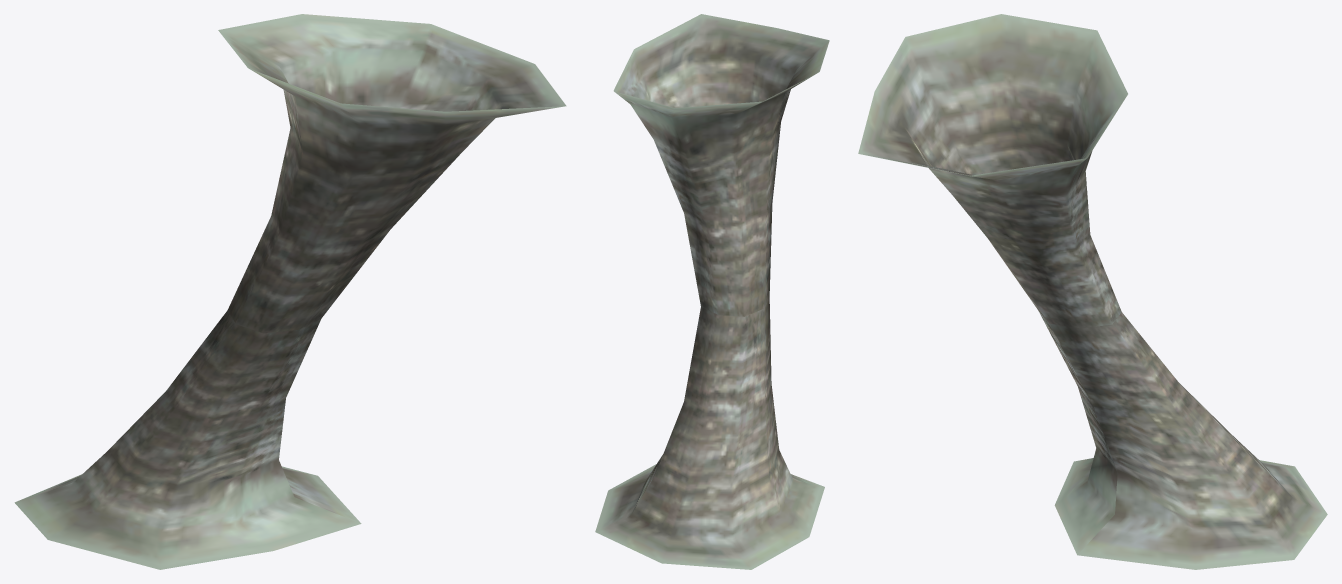
Rendered from TROLLHOLE02_PS-MAINSTALAG45.fbx.
The picture shows the model from 3 angles, left to right: view 1: azimuth 30°, elevation 25°; view 2: azimuth 150°, elevation 25°; view 3: azimuth 270°, elevation 25°; orthographic projection. The views are drawn at different scales.
Visible parts, largest first — view 1: TROLLHOLE02_PS-MAINSTALAG45; view 2: TROLLHOLE02_PS-MAINSTALAG45; view 3: TROLLHOLE02_PS-MAINSTALAG45.
Boxes of the visible parts, x1,y1,x2,y2 form: TROLLHOLE02_PS-MAINSTALAG45: [14, 14, 566, 569]; TROLLHOLE02_PS-MAINSTALAG45: [595, 14, 829, 569]; TROLLHOLE02_PS-MAINSTALAG45: [858, 14, 1327, 569].
Size of the model in its own units: 42352 by 60286 by 52780.
1 material, 1 textured.
